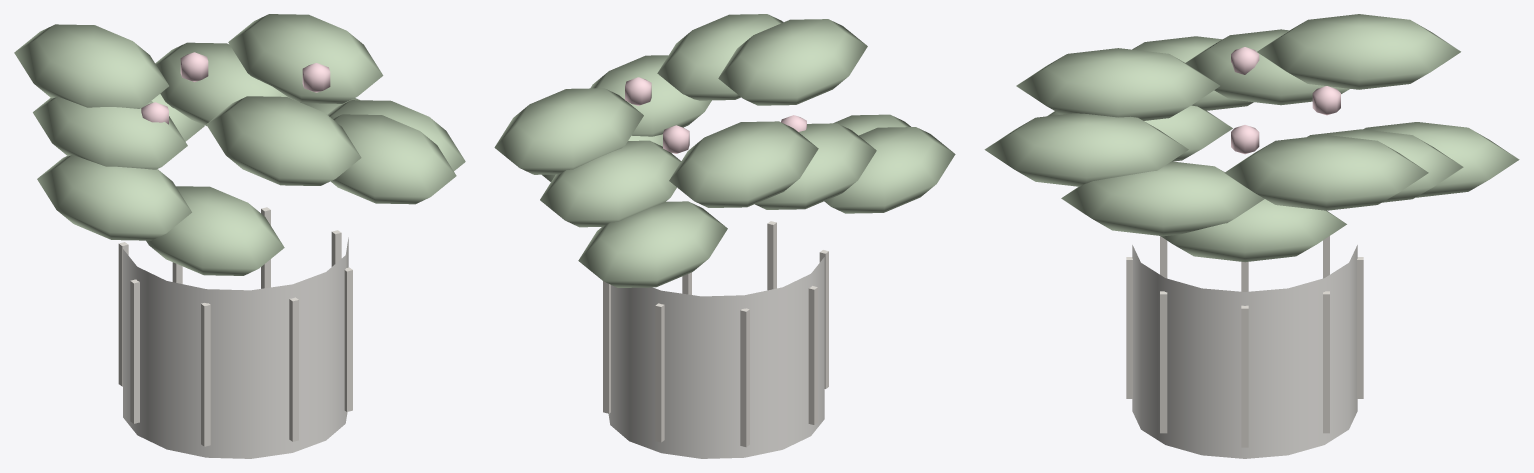
Rendered from plant.glb.
3 renders of one model, left to right at view 1: azimuth 30°, elevation 25°; view 2: azimuth 150°, elevation 25°; view 3: azimuth 270°, elevation 25°, orthographic. The views are drawn at different scales.
Visible parts, largest first — view 1: plant; view 2: plant; view 3: plant.
Part boxes in pixels (x1,y1,x2,y2): plant: (14, 14, 465, 458); plant: (494, 14, 955, 458); plant: (984, 14, 1519, 458).
Bounding box in the file's own units: 0.8362 × 0.74 × 1.05.
